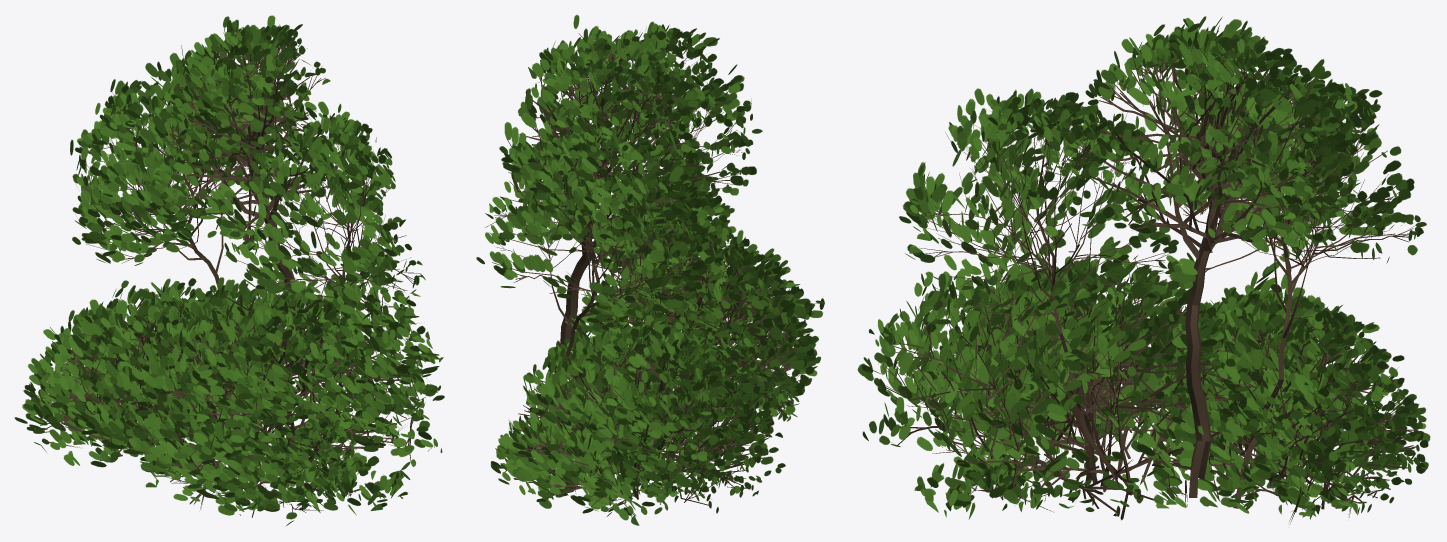
3 renders of one model, left to right at view 1: azimuth 30°, elevation 25°; view 2: azimuth 150°, elevation 25°; view 3: azimuth 270°, elevation 25°, orthographic. The views are drawn at different scales.
Visible parts, largest first — view 1: oak 01.001_trunk_Mat.001_0.200; view 2: oak 01.001_trunk_Mat.001_0.200; view 3: oak 01.001_trunk_Mat.001_0.200.
Boxes of the visible parts, box(x1,y1,x2,y2) form: oak 01.001_trunk_Mat.001_0.200: box(14, 15, 444, 525); oak 01.001_trunk_Mat.001_0.200: box(476, 14, 824, 525); oak 01.001_trunk_Mat.001_0.200: box(857, 16, 1430, 523).
Size of the model in its own units: 2.47 by 3.83 by 3.98.
2 materials, 1 textured.
